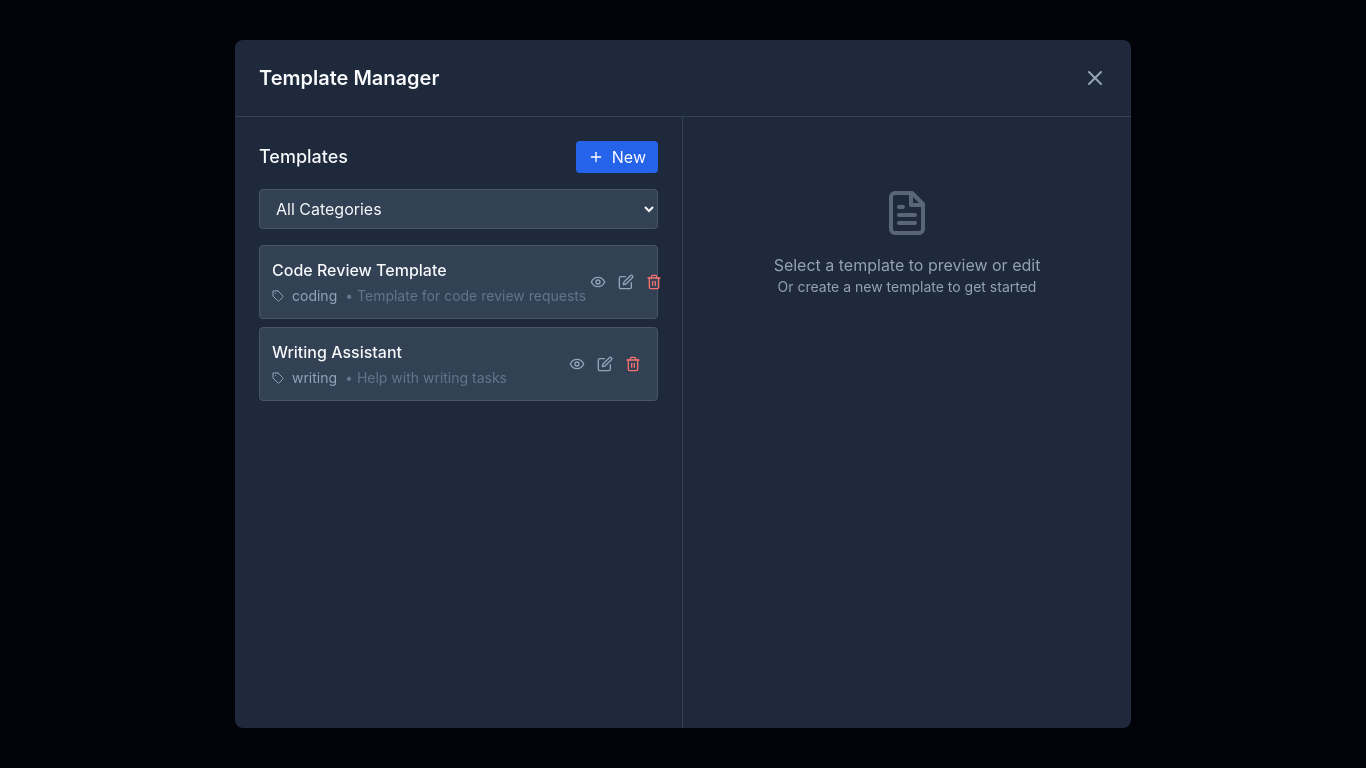
TemplateManager › previews a template
Click preview button
What coordinates should you click on to do the following:
click the button titled "Preview" next to "Template for code review requests"
I would click on:
 (598, 282)
Its box is x1=586 y1=270 x2=610 y2=294.
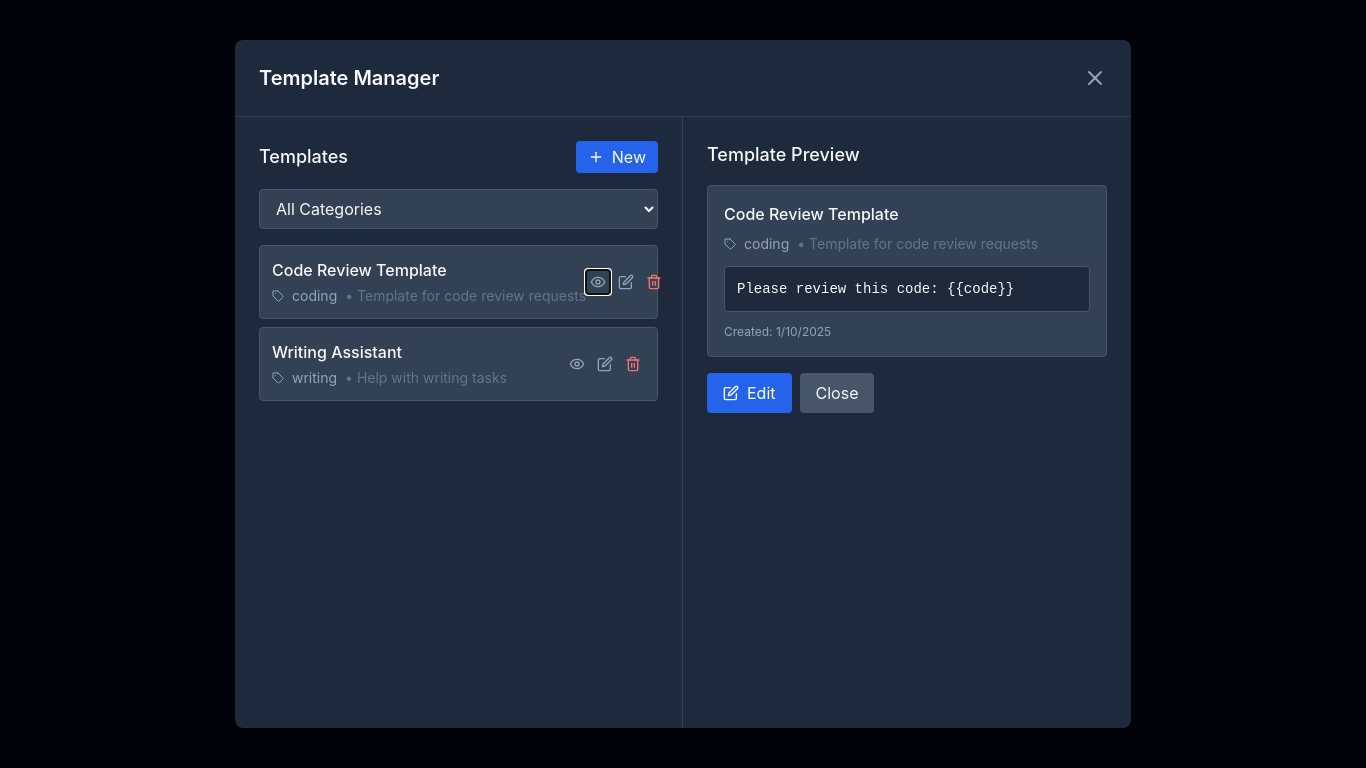
Now the heading "Template Preview" is shown, box x1=707 y1=144 x2=860 y2=165
Now the text "Template Preview" shows "Code Review Template", box x1=724 y1=204 x2=899 y2=224
Now the text "Template Preview" shows "Please review this code: {{code}}", box x1=737 y1=281 x2=1014 y2=297
